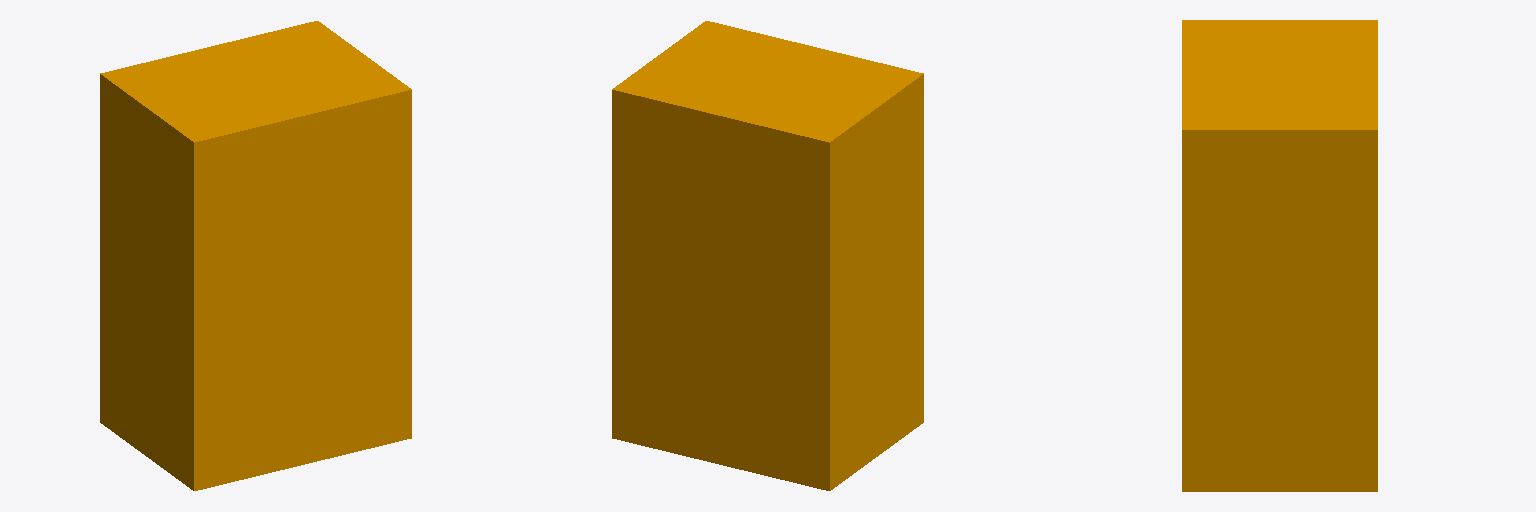
URDF robot description (industreal_round_peg_63mm):
<?xml version="1.0"?>
<robot name="industreal_round_peg_63mm">
    <link name="industreal_round_peg_63mm">
        <visual>
            <geometry>
                <mesh filename="../mesh/industreal_pegs/RectHard_3.obj"/>
            </geometry>
        </visual>
        <collision>
            <geometry>
                <mesh filename="../mesh/industreal_pegs/RectHard_3.obj"/>
            </geometry>
            <sdf resolution="256"/>
        </collision>
    </link>
</robot>

--- Facts derived from the render (not from the file) ---
Views: 3 orthographic renders of the robot side by side, from view 1: azimuth 30°, elevation 25°; view 2: azimuth 150°, elevation 25°; view 3: azimuth 270°, elevation 25°.
Robot: industreal_round_peg_63mm — 1 links, 0 joints (none); root link industreal_round_peg_63mm; default pose: every joint at zero.
Links seen in each view (by area): view 1: industreal_round_peg_63mm; view 2: industreal_round_peg_63mm; view 3: industreal_round_peg_63mm.
Link boxes in pixels (x1,y1,x2,y2): industreal_round_peg_63mm: (100, 21, 411, 490); industreal_round_peg_63mm: (612, 21, 923, 490); industreal_round_peg_63mm: (1182, 20, 1377, 491).
Bounding box of the posed robot: 0.0498 × 0.0373 × 0.0762 m (x, y, z).
1 mesh visuals loaded from 1 distinct referenced files (1 OBJ).